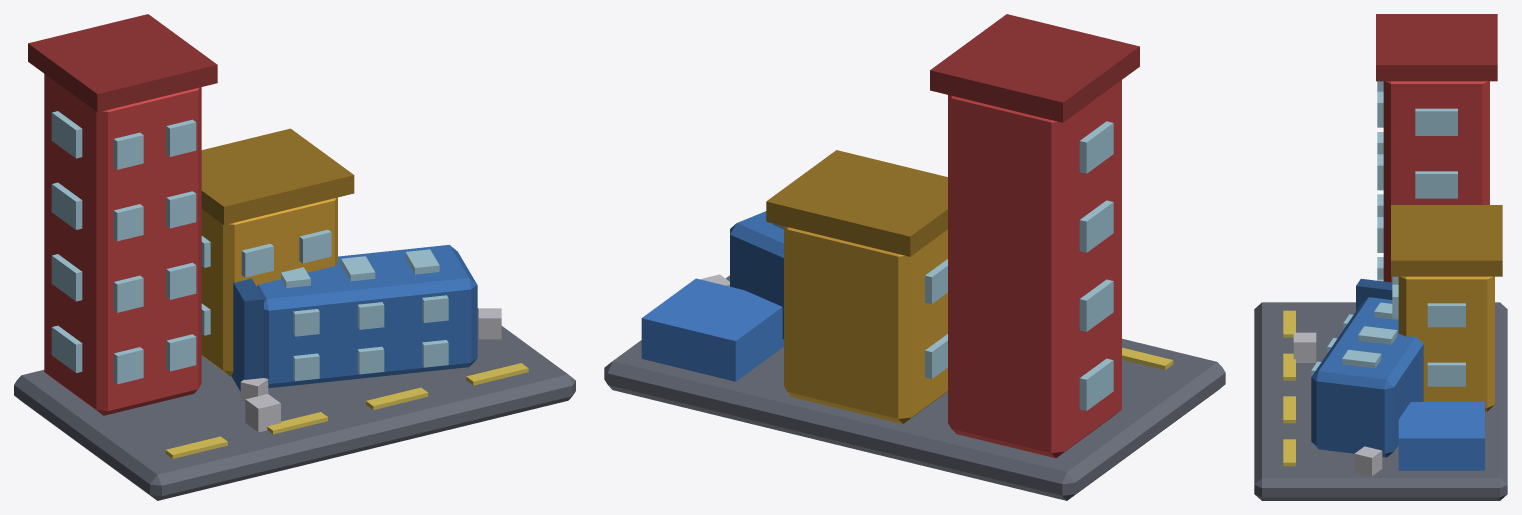
The model's file is habitat_prop_goozilla.fbx.
3 renders of one model, left to right at view 1: azimuth 30°, elevation 25°; view 2: azimuth 150°, elevation 25°; view 3: azimuth 270°, elevation 25°, orthographic. The views are drawn at different scales.
Visible parts, largest first — view 1: habitat_prop_goozilla; view 2: habitat_prop_goozilla; view 3: habitat_prop_goozilla.
Part boxes in pixels (box(x1,y1,x2,y2)): habitat_prop_goozilla: box(14, 14, 575, 500); habitat_prop_goozilla: box(604, 14, 1225, 500); habitat_prop_goozilla: box(1254, 14, 1507, 500).
Bounding box in the file's own units: 1.7 × 1.37 × 1.
